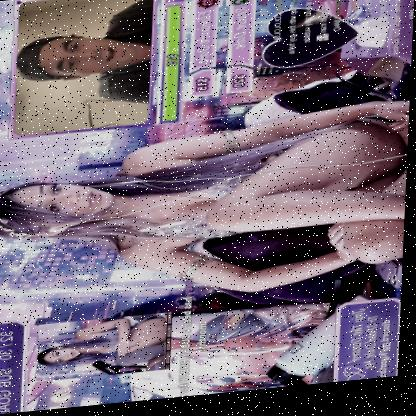donation: (39, 277, 214, 412)
streamer: (0, 105, 411, 316), (14, 0, 154, 116)
